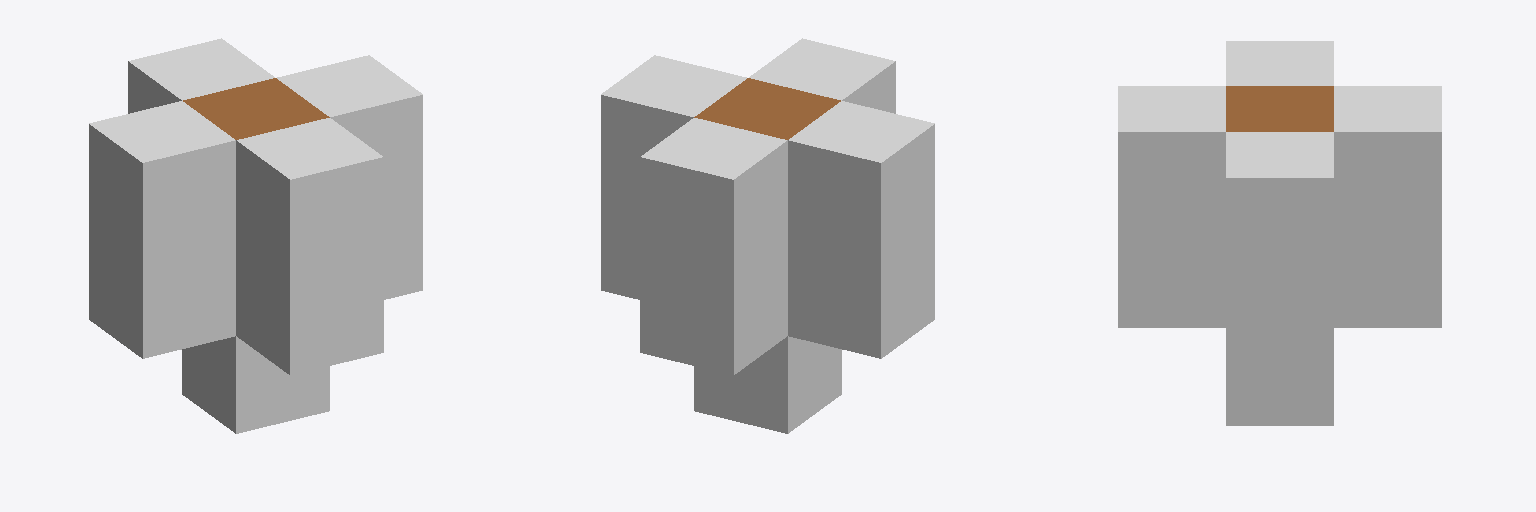
3 views of the same model, side by side, from view 1: azimuth 30°, elevation 25°; view 2: azimuth 150°, elevation 25°; view 3: azimuth 270°, elevation 25° (orthographic).
Visible parts, largest first — view 1: object 1; view 2: object 1; view 3: object 1.
Boxes of the visible parts, x1=… form: object 1: x1=89, y1=38, x2=422, y2=433; object 1: x1=601, y1=38, x2=934, y2=433; object 1: x1=1118, y1=41, x2=1441, y2=425.
Size of the model in its own units: 0.3 by 0.3 by 0.3.
Materials: 1 (1 with a texture image).